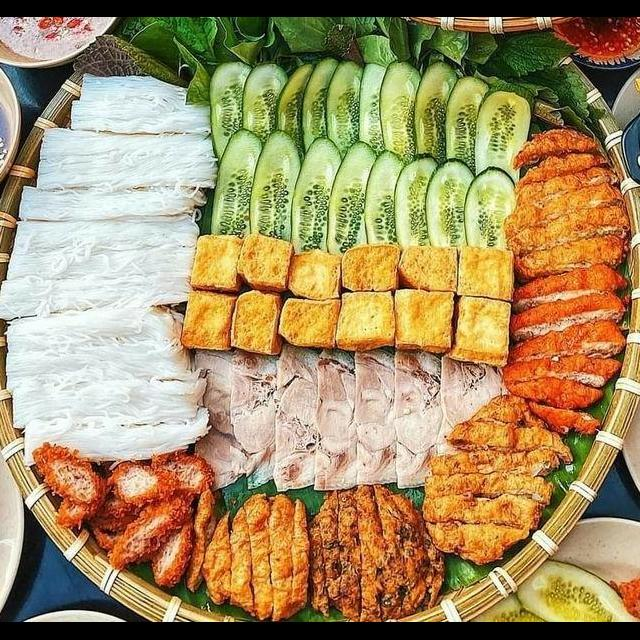bun: (0, 67, 227, 472)
bun dau: (15, 46, 640, 615)
cha com: (25, 436, 220, 594), (415, 390, 578, 570), (488, 255, 629, 438), (496, 124, 639, 288), (302, 479, 449, 622), (183, 487, 316, 622)
dau hu: (442, 292, 515, 372), (386, 284, 462, 356), (171, 282, 242, 356), (329, 286, 403, 354), (224, 286, 290, 360), (448, 240, 519, 308), (184, 232, 251, 300), (233, 232, 299, 298), (275, 294, 345, 354), (279, 244, 347, 304), (392, 242, 464, 298), (336, 242, 405, 298)
thit heo: (421, 350, 525, 490), (178, 346, 273, 496), (384, 342, 470, 492), (346, 342, 428, 492), (303, 342, 380, 496), (226, 344, 295, 492), (267, 342, 332, 496)
